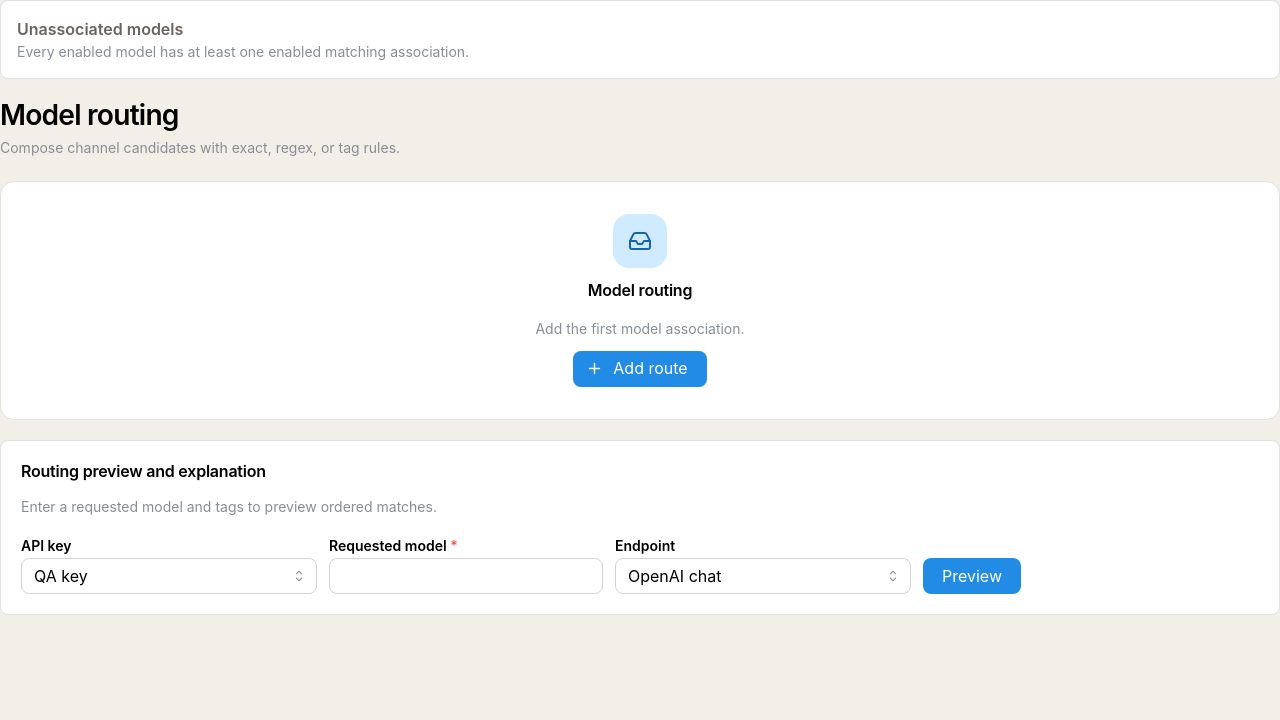
Test: routing preview transformation path › names the requested model, ordered routing, and first upstream model
The width and height of the screenshot is (1280, 720).
Type "qa-demo" into the field labelled "Requested model" at (466, 576), box [329, 558, 603, 594]
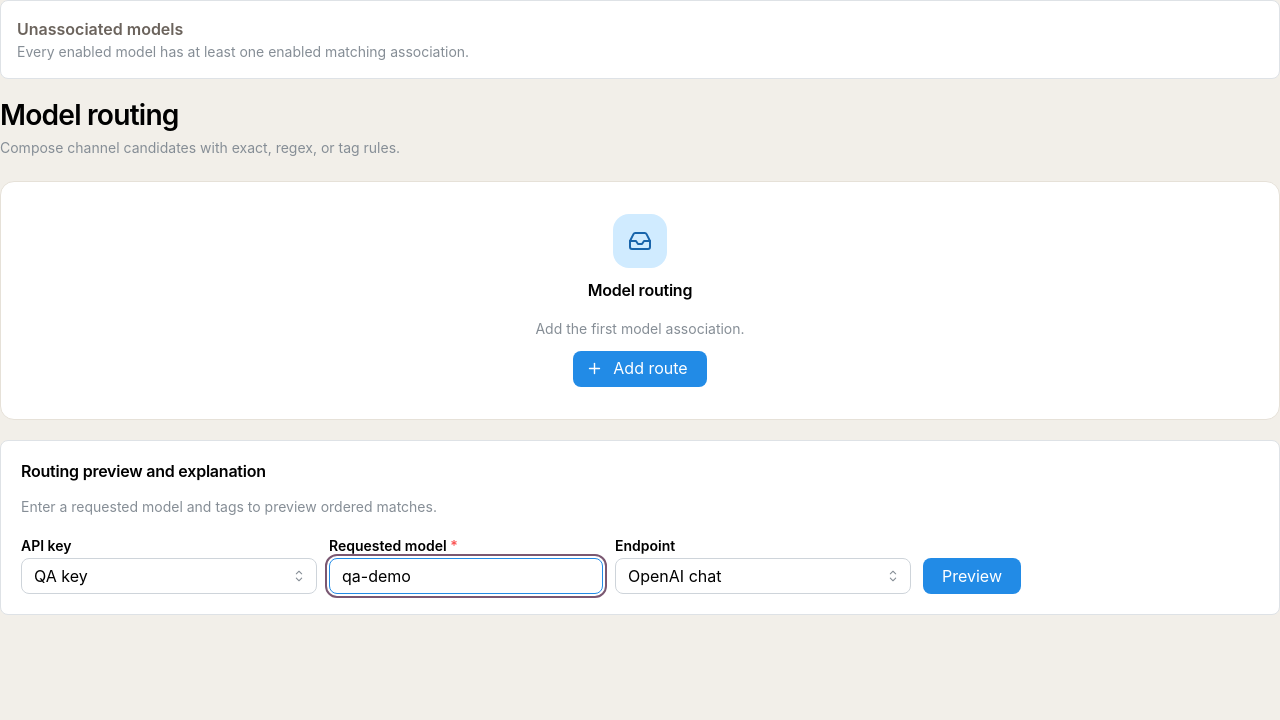
Click the button "Preview" at (972, 576), box [923, 558, 1021, 594]
(page scrolled)
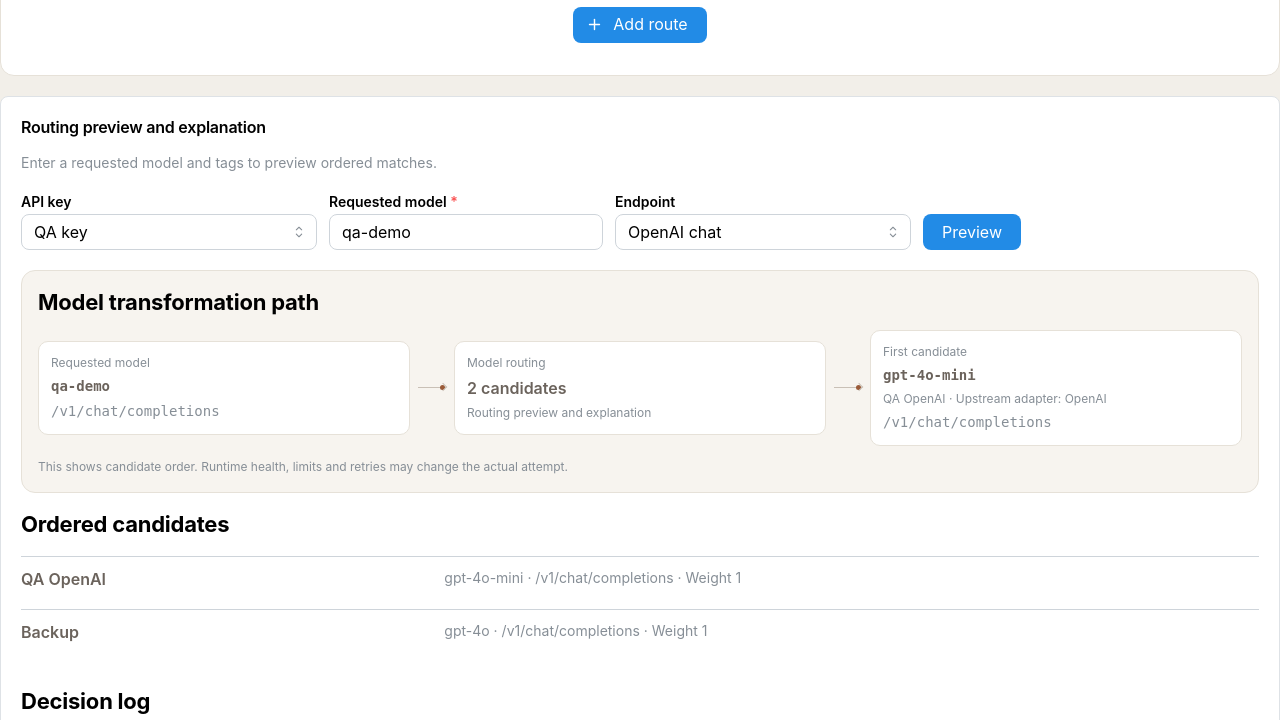
Expected: the text "qa-demo" is shown, [51, 378, 110, 394]
Expected: the text "2 candidates" is shown, [467, 378, 566, 398]
Expected: the text "gpt-4o-mini" is shown, [883, 367, 976, 383]
